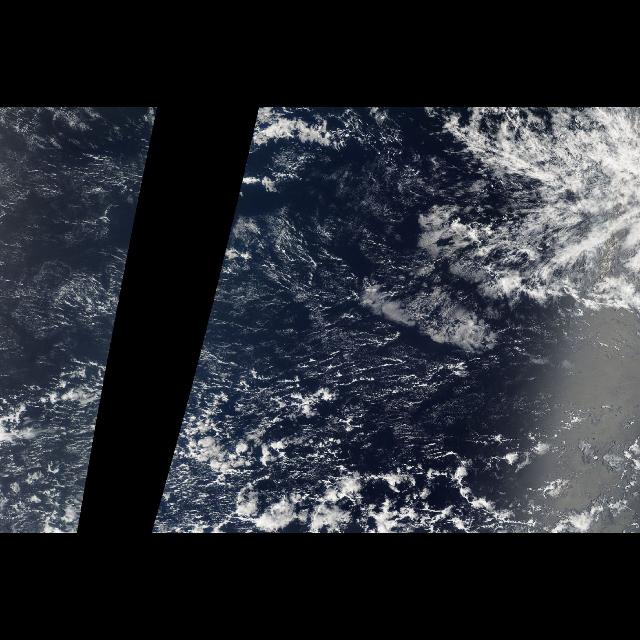Gravel: (178, 323, 544, 511)
Sugar: (181, 109, 393, 417), (3, 109, 158, 417)
